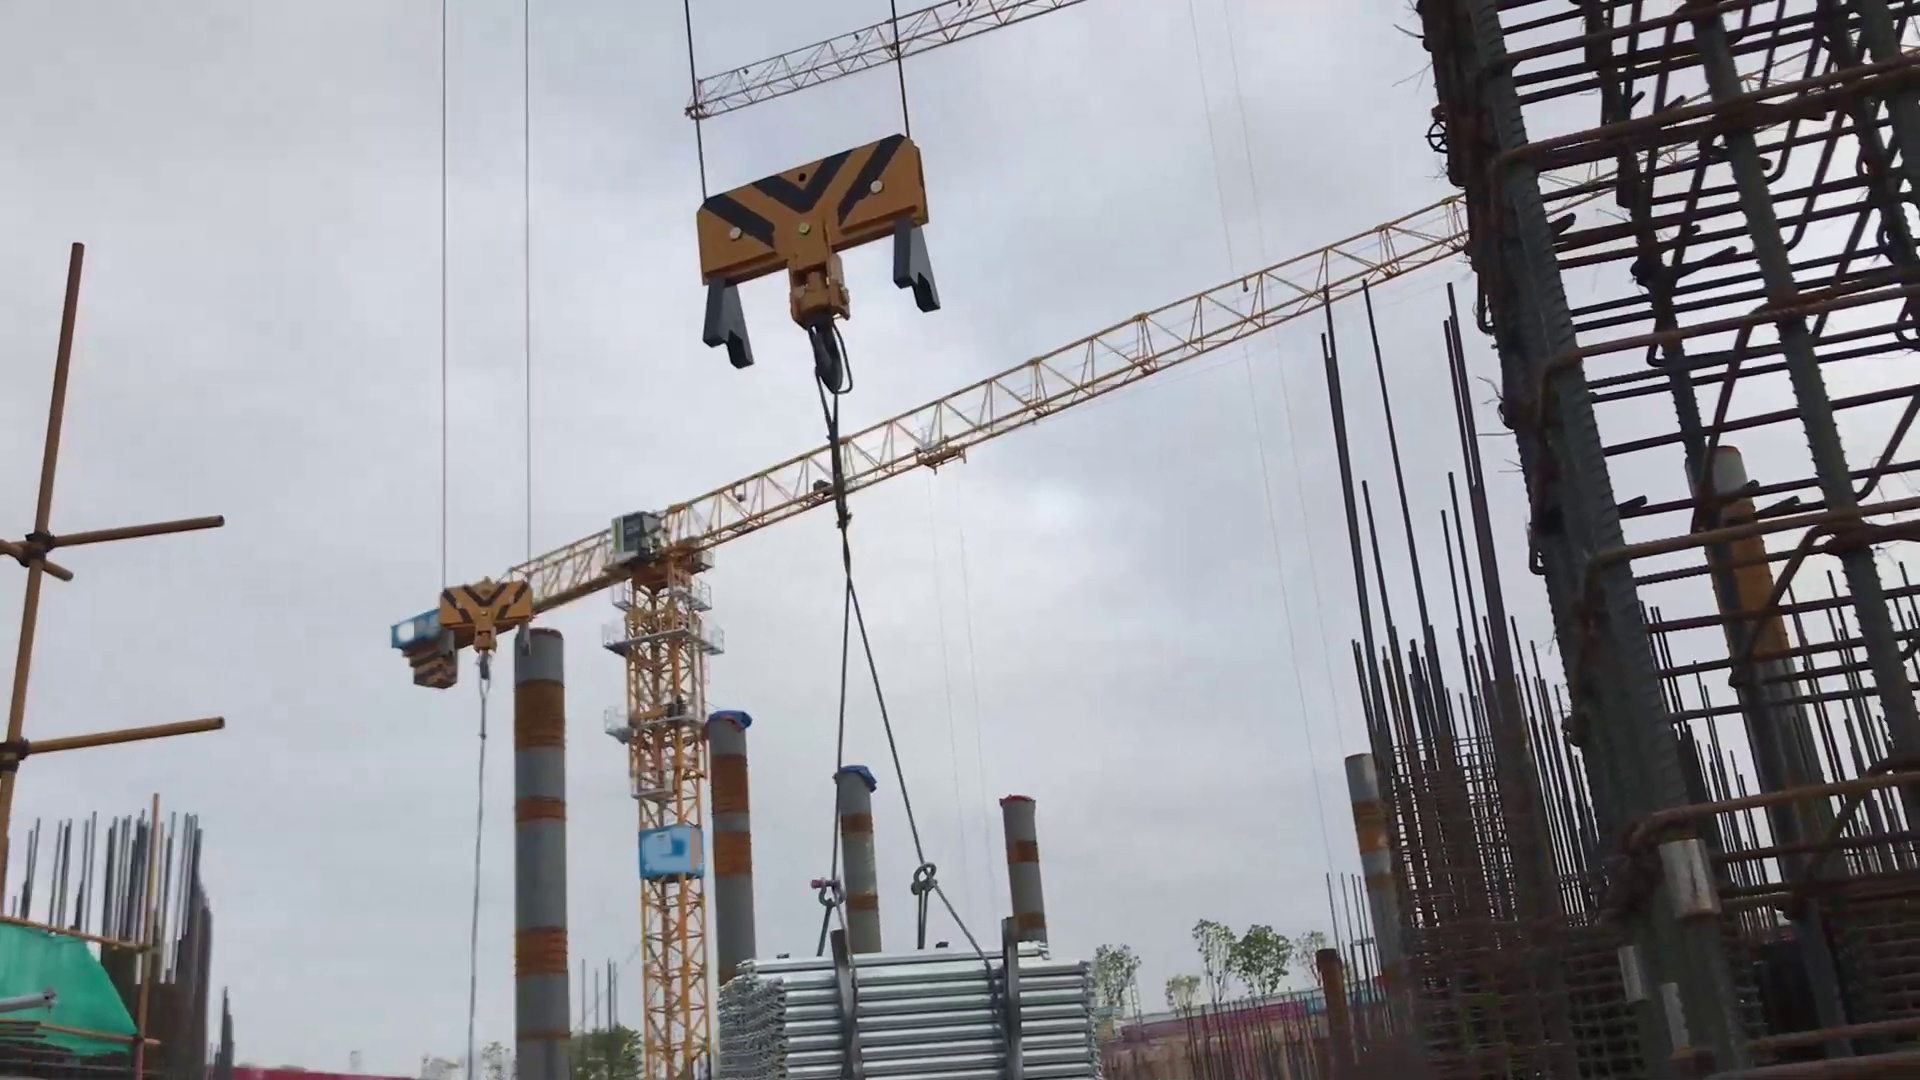hook: (674, 127, 993, 393), (429, 547, 538, 665)
scaffold: (670, 903, 1125, 1080)
